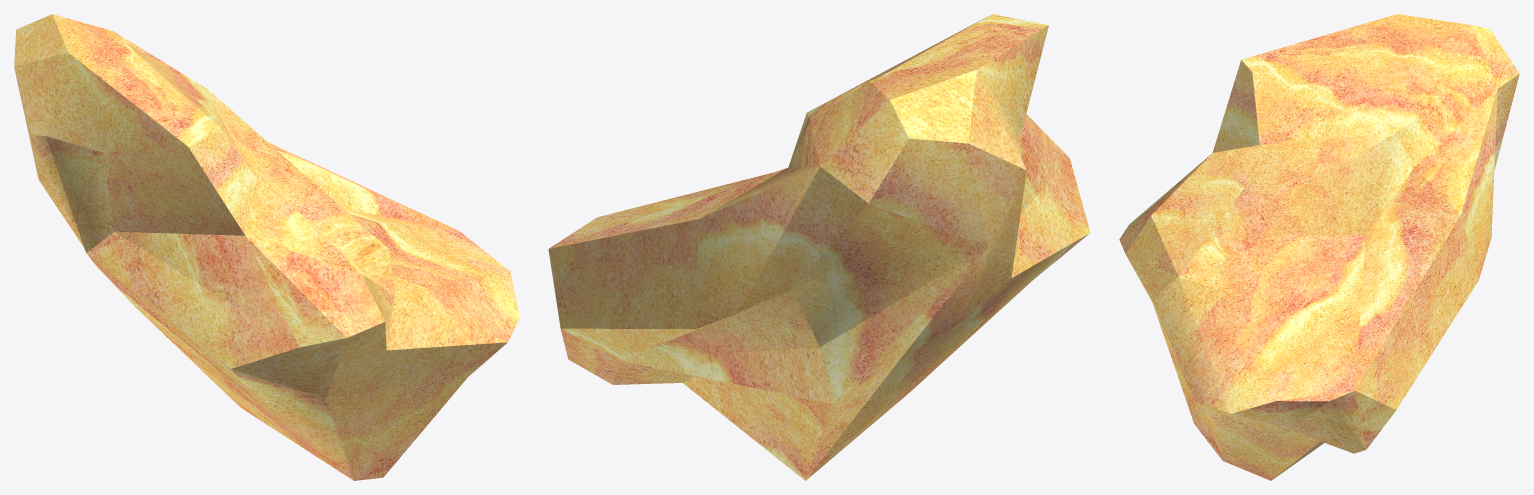
File: boulder-sm-3.glb
3 renders of one model, left to right at view 1: azimuth 30°, elevation 25°; view 2: azimuth 150°, elevation 25°; view 3: azimuth 270°, elevation 25°, orthographic. The views are drawn at different scales.
Parts seen in each view (by area): view 1: Icosahedron_n3d; view 2: Icosahedron_n3d; view 3: Icosahedron_n3d.
Part boxes in pixels (x1,y1,x2,y2): Icosahedron_n3d: [14, 14, 519, 480]; Icosahedron_n3d: [548, 14, 1090, 480]; Icosahedron_n3d: [1119, 14, 1519, 480].
Size of the model in its own units: 0.5754 by 0.5692 by 0.5533.
1 material, 1 textured.
